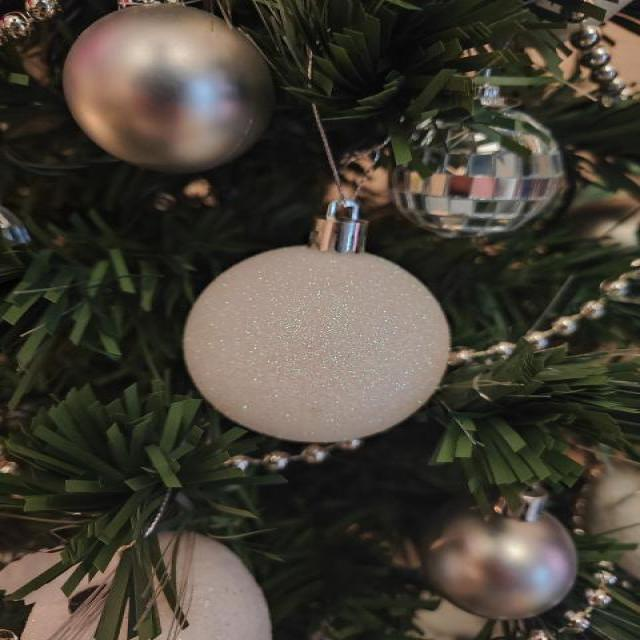Circle: (180, 233, 452, 448)
